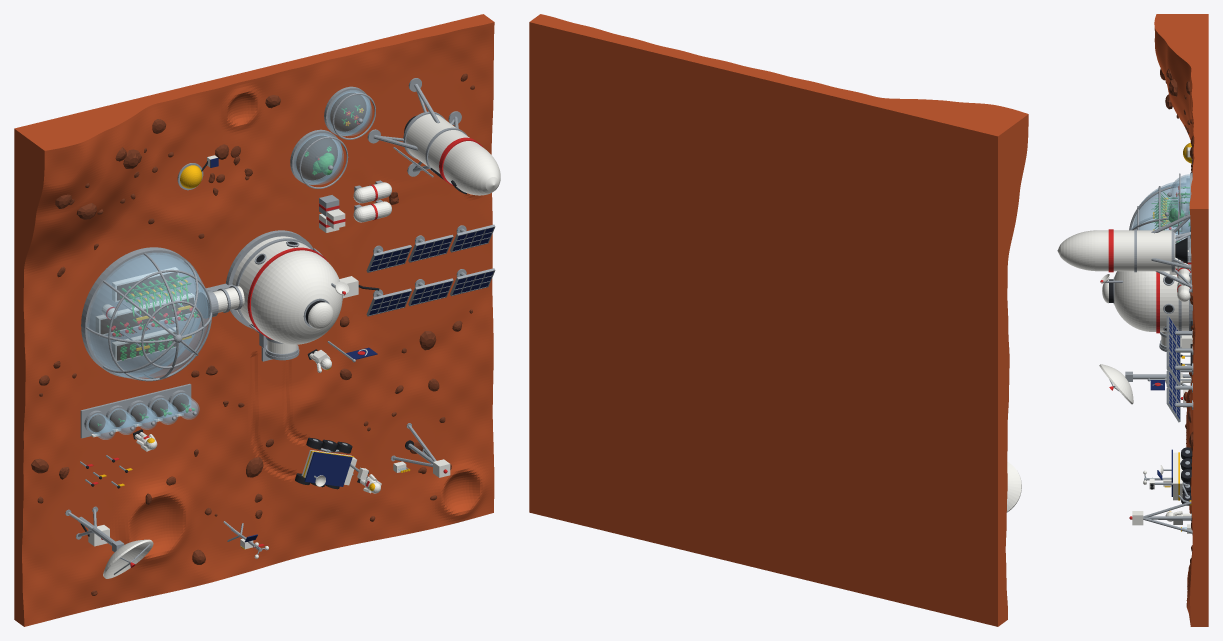
Rendered from mars_colony_colored.obj.
3 renders of one model, left to right at view 1: azimuth 30°, elevation 25°; view 2: azimuth 150°, elevation 25°; view 3: azimuth 270°, elevation 25°, orthographic. The views are drawn at different scales.
Visible parts, largest first — view 1: terrain, metal, white, glass, rocks, soil, navy, plants, red, dark, gold; view 2: terrain; view 3: terrain, white, metal, glass, dark, navy, rocks, red, plants, gold.
Part boxes in pixels (x1,y1,x2,y2): terrain: [14, 14, 494, 626]; metal: [65, 78, 495, 574]; white: [88, 114, 500, 578]; glass: [87, 90, 408, 471]; rocks: [31, 73, 474, 595]; soil: [89, 92, 366, 432]; navy: [210, 158, 493, 542]; plants: [97, 105, 359, 425]; red: [86, 110, 482, 567]; dark: [80, 115, 466, 536]; gold: [99, 108, 410, 549]; terrain: [529, 14, 1028, 626]; terrain: [1154, 14, 1208, 626]; white: [1057, 147, 1192, 533]; metal: [1103, 159, 1193, 534]; glass: [1131, 174, 1189, 531]; dark: [1109, 237, 1192, 520]; navy: [1150, 147, 1187, 496]; rocks: [1160, 68, 1193, 563]; red: [1100, 186, 1191, 519]; plants: [1151, 186, 1189, 242]; gold: [1153, 142, 1191, 531].
Size of the model in its own units: 180 by 180 by 59.
